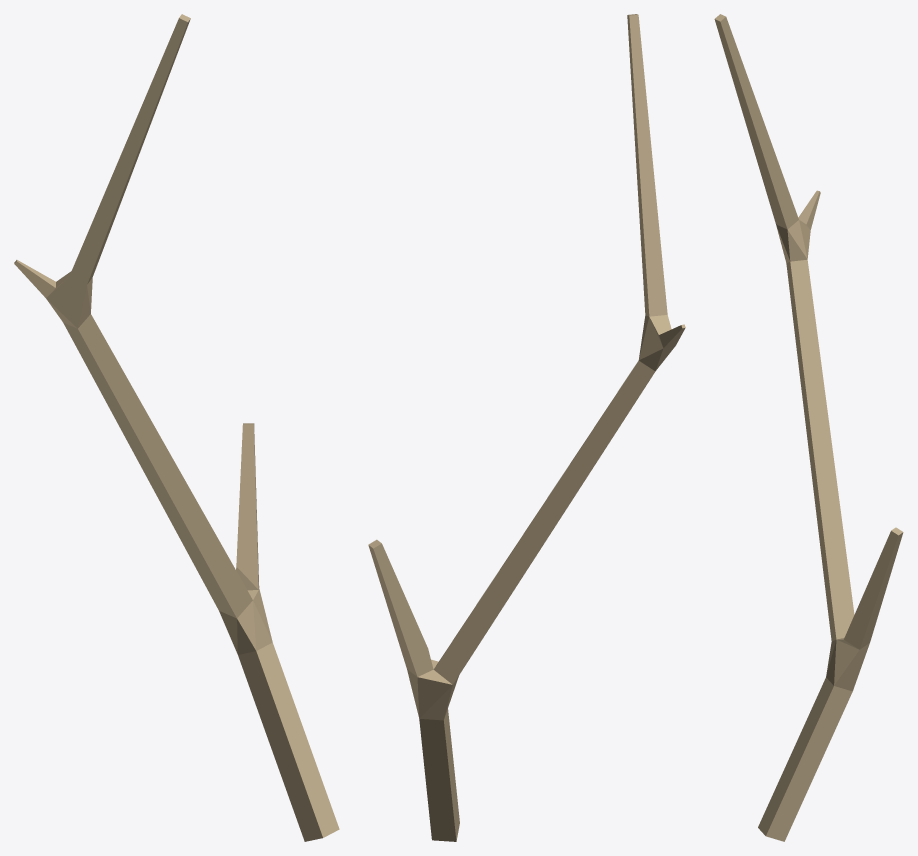
Rendered from stick_01_break_coco.fbx.
3 renders of one model, left to right at view 1: azimuth 30°, elevation 25°; view 2: azimuth 150°, elevation 25°; view 3: azimuth 270°, elevation 25°, orthographic. The views are drawn at different scales.
Parts seen in each view (by area): view 1: stick_01; view 2: stick_01; view 3: stick_01.
Part boxes in pixels (x1,y1,x2,y2): stick_01: (14,14,339,841); stick_01: (368,14,685,841); stick_01: (714,14,903,841).
Bounding box in the file's own units: 18.43 × 53.01 × 12.06.
